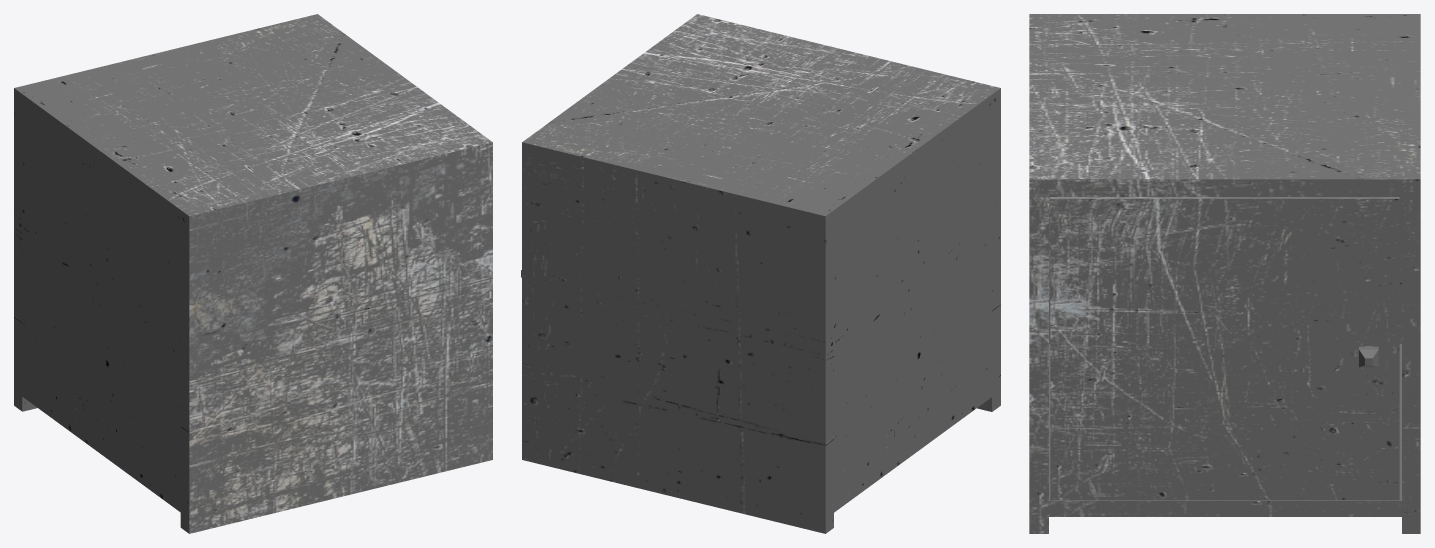
File: Тумба_с_дверью.fbx
The picture shows the model from 3 angles, left to right: view 1: azimuth 30°, elevation 25°; view 2: azimuth 150°, elevation 25°; view 3: azimuth 270°, elevation 25°; orthographic projection. The views are drawn at different scales.
Visible parts, largest first — view 1: Base; view 2: Base; view 3: Door, Base.
Boxes of the visible parts, x1,y1,x2,y2 form: Base: [14, 14, 492, 533]; Base: [522, 14, 1000, 533]; Door: [1050, 197, 1399, 500]; Base: [1029, 14, 1420, 533].
Size of the model in its own units: 215 by 200 by 200.
1 material, 1 textured.
